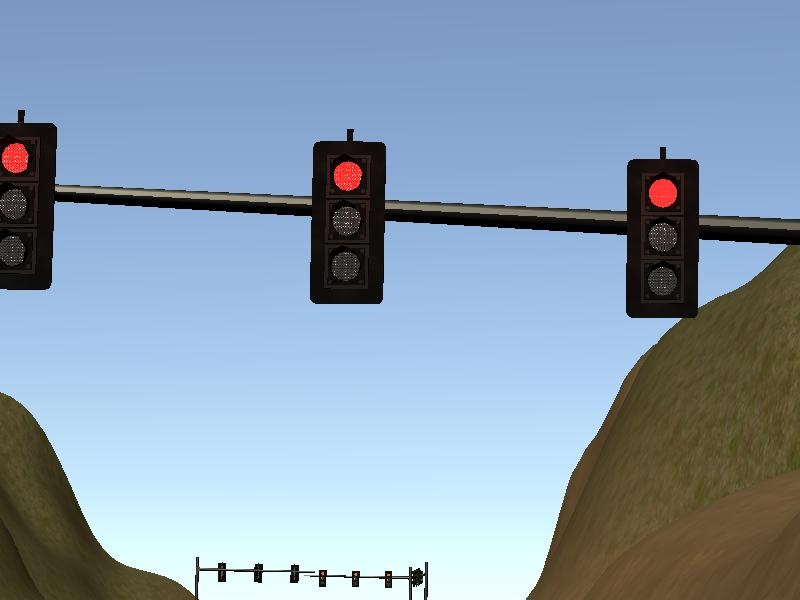RED: (310, 141, 387, 304), (626, 158, 701, 321), (1, 120, 59, 290)
